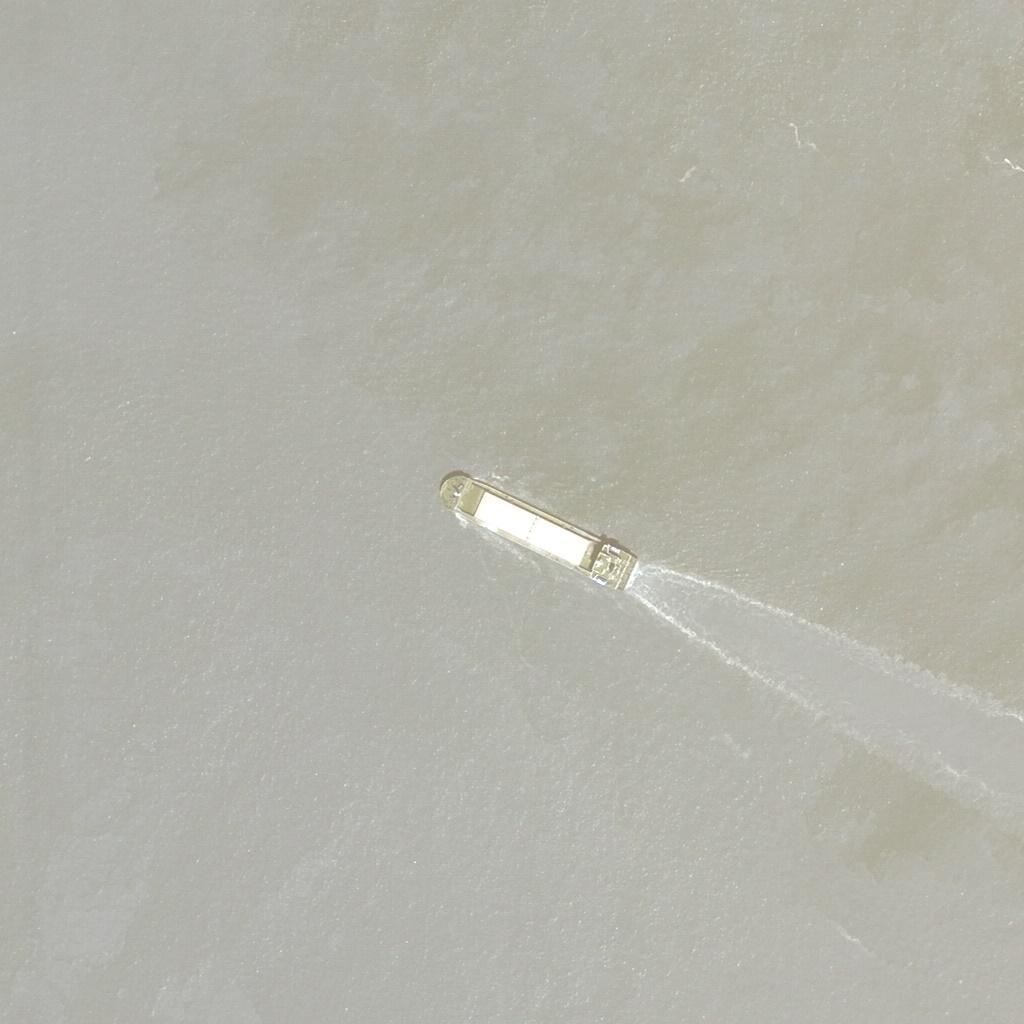ship: (441, 476, 642, 590)
